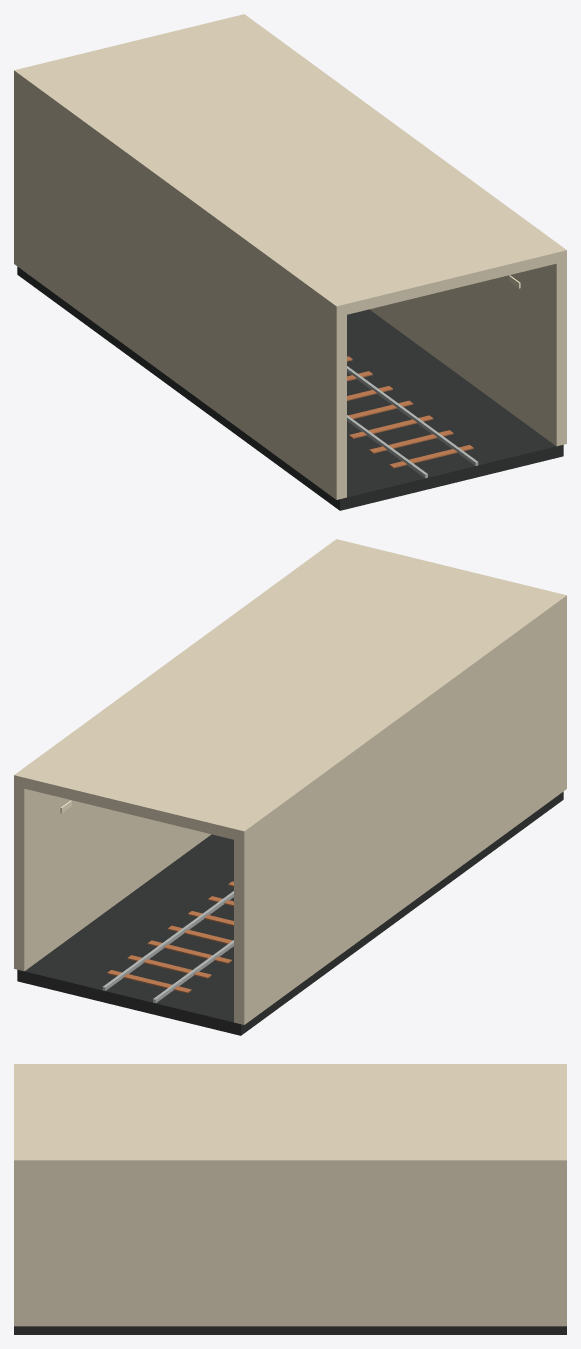
The model's file is tunnel.glb.
3 renders of one model, top to bottom at view 1: azimuth 30°, elevation 25°; view 2: azimuth 150°, elevation 25°; view 3: azimuth 270°, elevation 25°, orthographic. The views are drawn at different scales.
Parts seen in each view (by area): view 1: transit/tunnel; view 2: transit/tunnel; view 3: transit/tunnel.
Boxes of the visible parts, x1=… form: transit/tunnel: x1=14, y1=14, x2=566, y2=510; transit/tunnel: x1=14, y1=539, x2=566, y2=1035; transit/tunnel: x1=14, y1=1064, x2=566, y2=1334.
Size of the model in its own units: 6.6 by 5.62 by 16.
